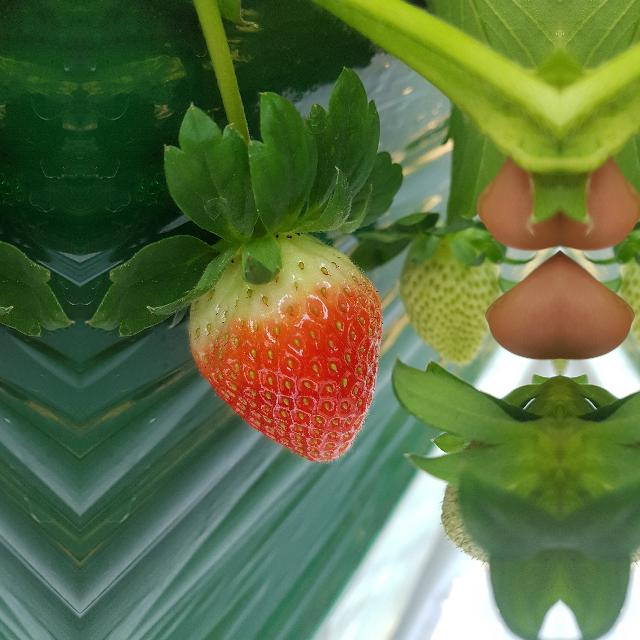Health_25: (404, 223, 498, 361)
Health_75: (186, 233, 384, 462)
